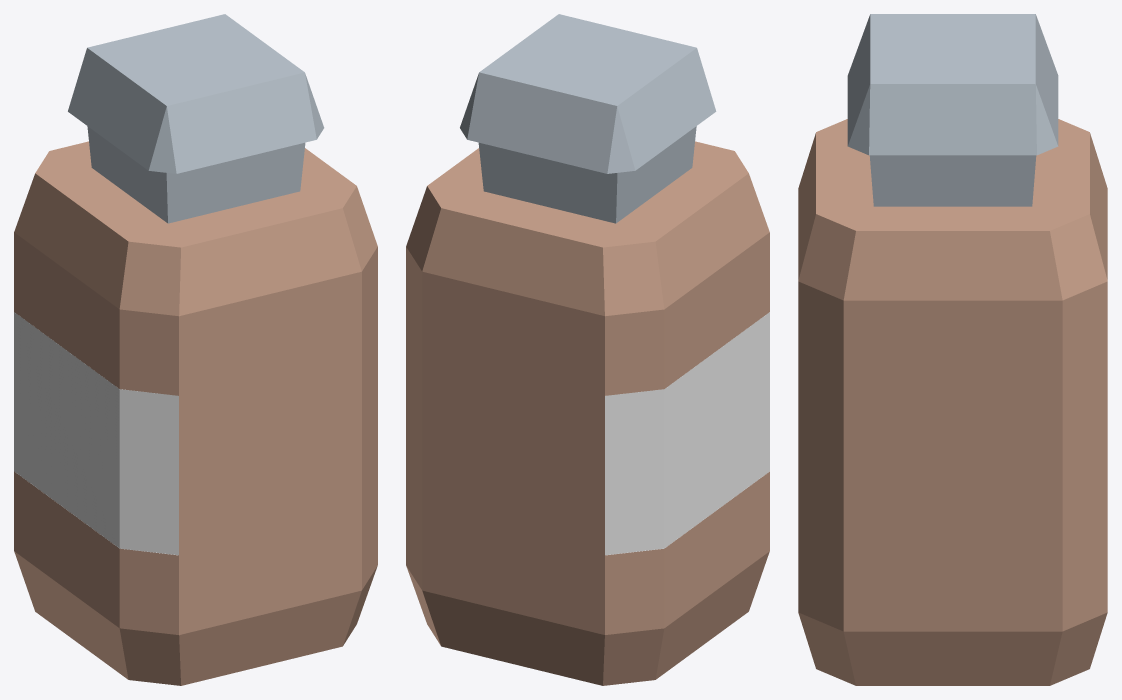
The model's file is shaker-salt.glb.
The picture shows the model from 3 angles, left to right: view 1: azimuth 30°, elevation 25°; view 2: azimuth 150°, elevation 25°; view 3: azimuth 270°, elevation 25°; orthographic projection. The views are drawn at different scales.
Visible parts, largest first — view 1: shakerSalt; view 2: shakerSalt; view 3: shakerSalt.
Boxes of the visible parts, x1,y1,x2,y2 form: shakerSalt: (14, 14, 377, 685); shakerSalt: (406, 14, 769, 685); shakerSalt: (798, 14, 1107, 685).
Size of the model in its own units: 0.0949 by 0.196 by 0.0949.
